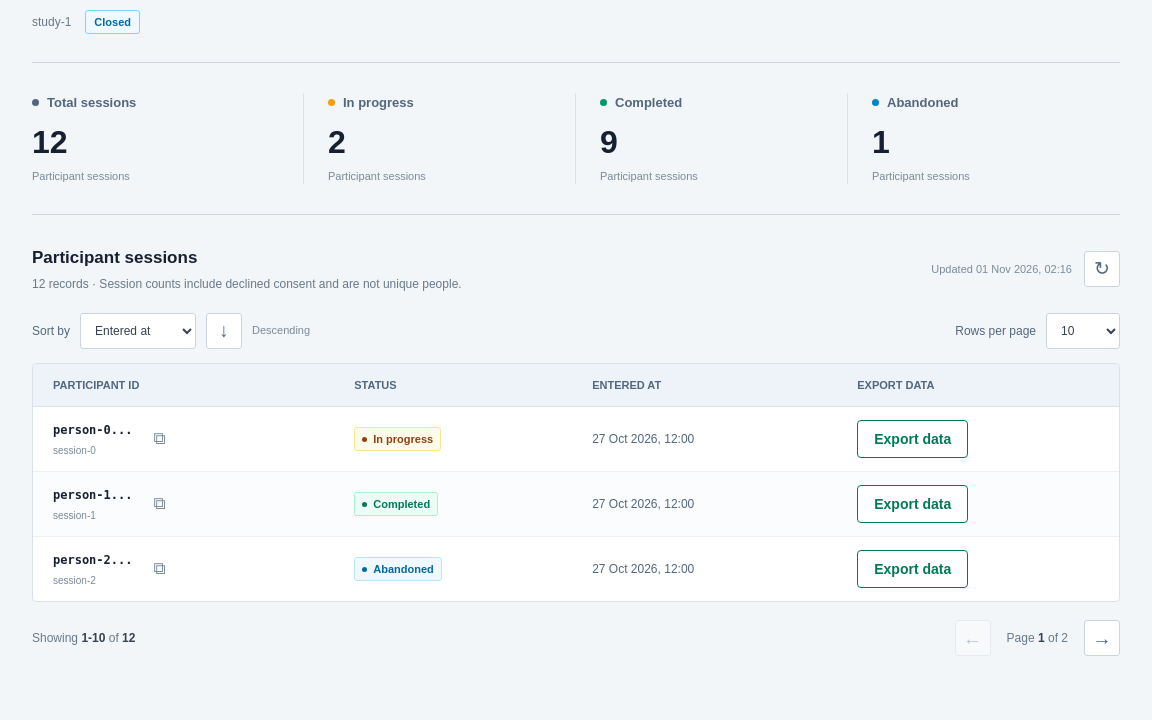
real study participation page › opens an export for each row with its own session identity, regardless of session completion status
The width and height of the screenshot is (1152, 720).
(page scrolled)
Check: the text "session-0" is shown, box [53,445,96,456]
Click the button "Export data" in the row of "person-0". click: click(913, 439)
box: [857,420,968,458]
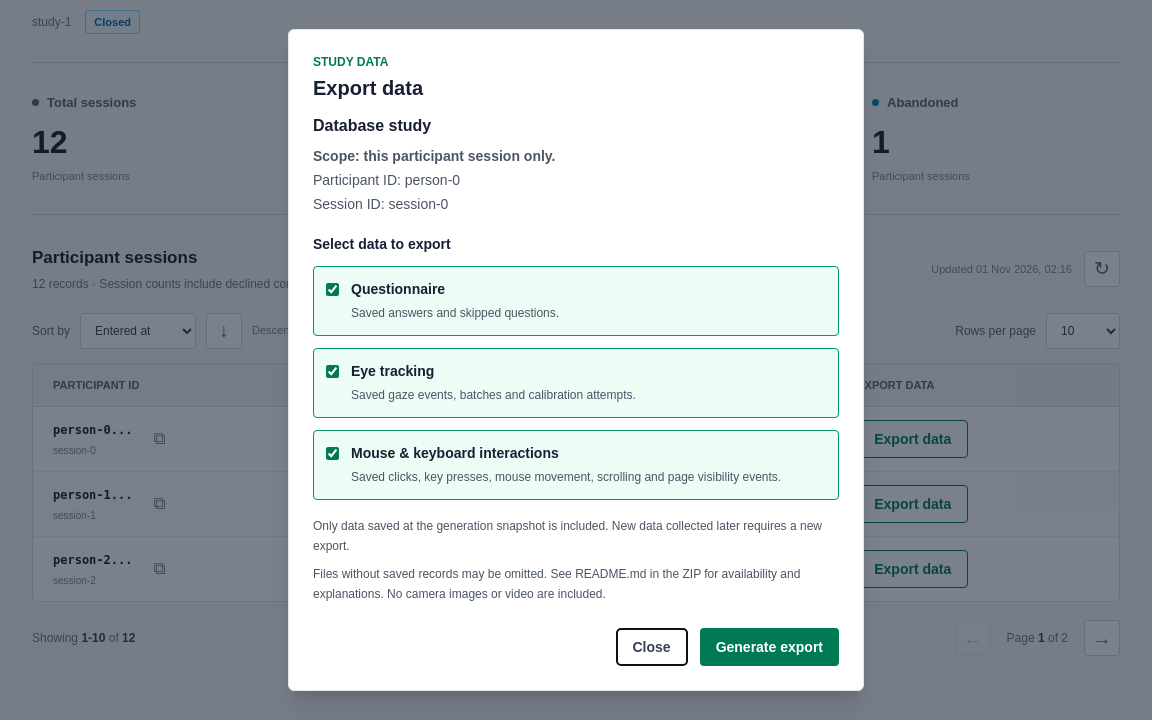
Click the button "Close". click: click(652, 647)
box: [616,628,688,666]
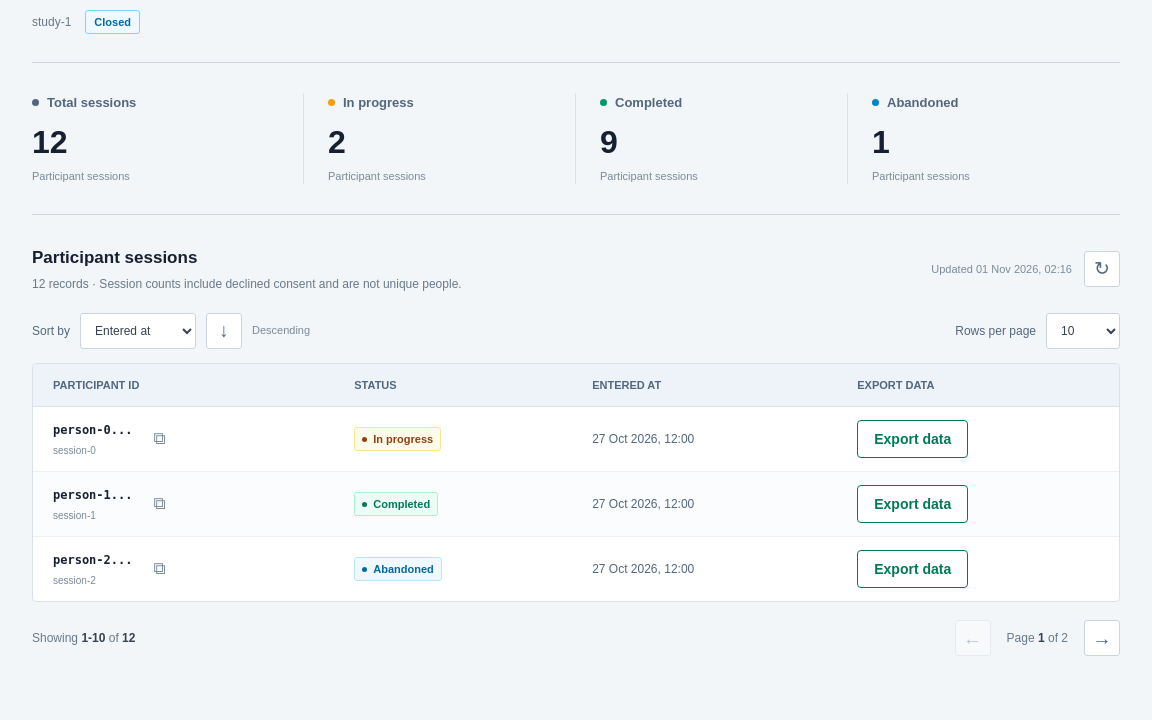
Check: the dialog is gone
Click the button "Export data" in the row of "person-1". click: click(913, 504)
box: [857,485,968,523]
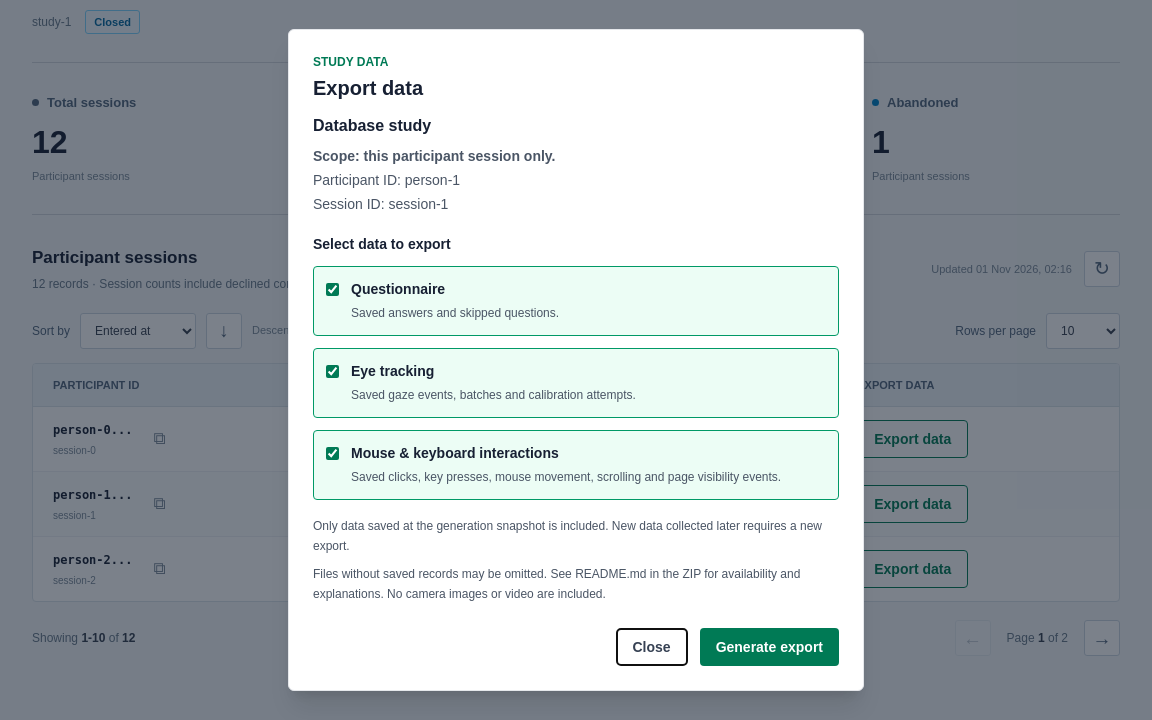
Check: the text "Session ID: session-1" is shown, box [313,196,448,212]
Click the button "Close". click: click(652, 647)
box: [616,628,688,666]
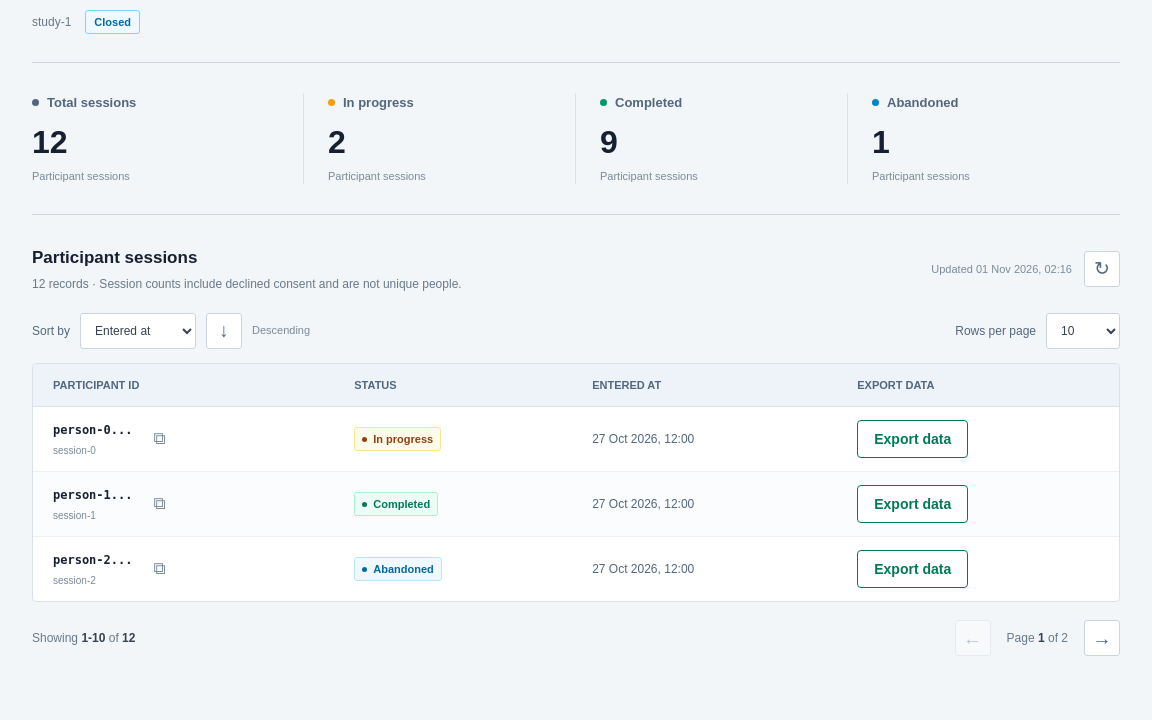
Check: the dialog is gone
Click the button "Export data" in the row of "person-2". click: click(913, 569)
box: [857,550,968,588]
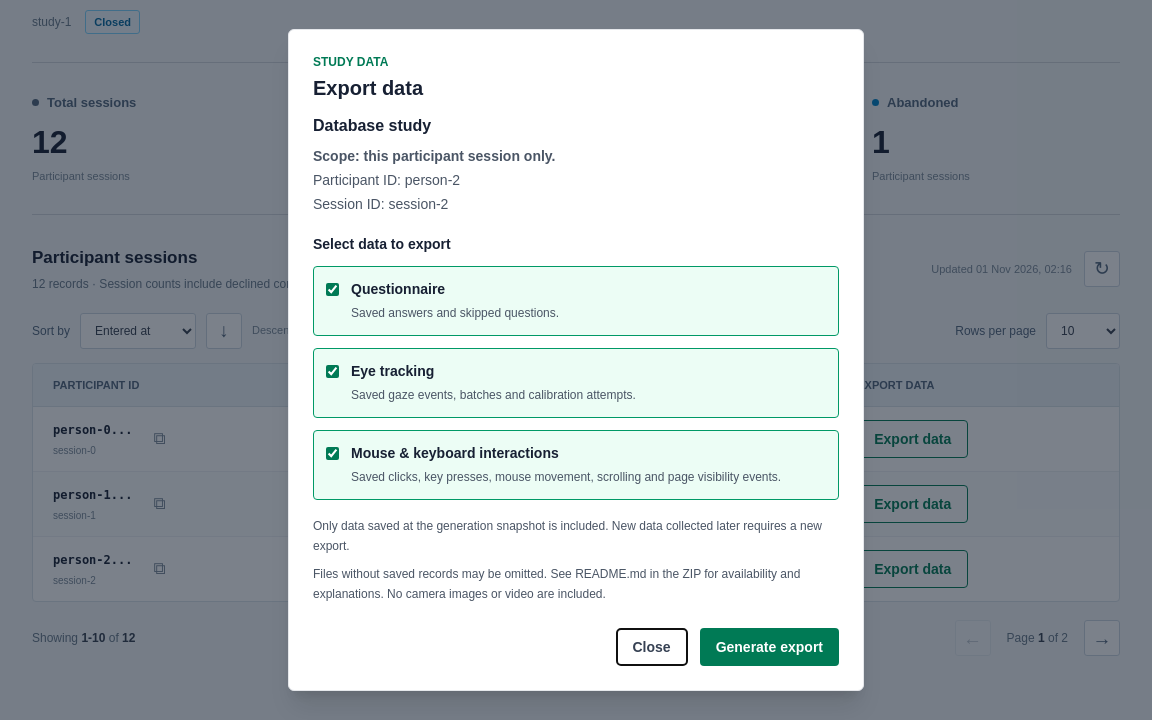
Click the button "Close". click: click(652, 647)
box: [616,628,688,666]
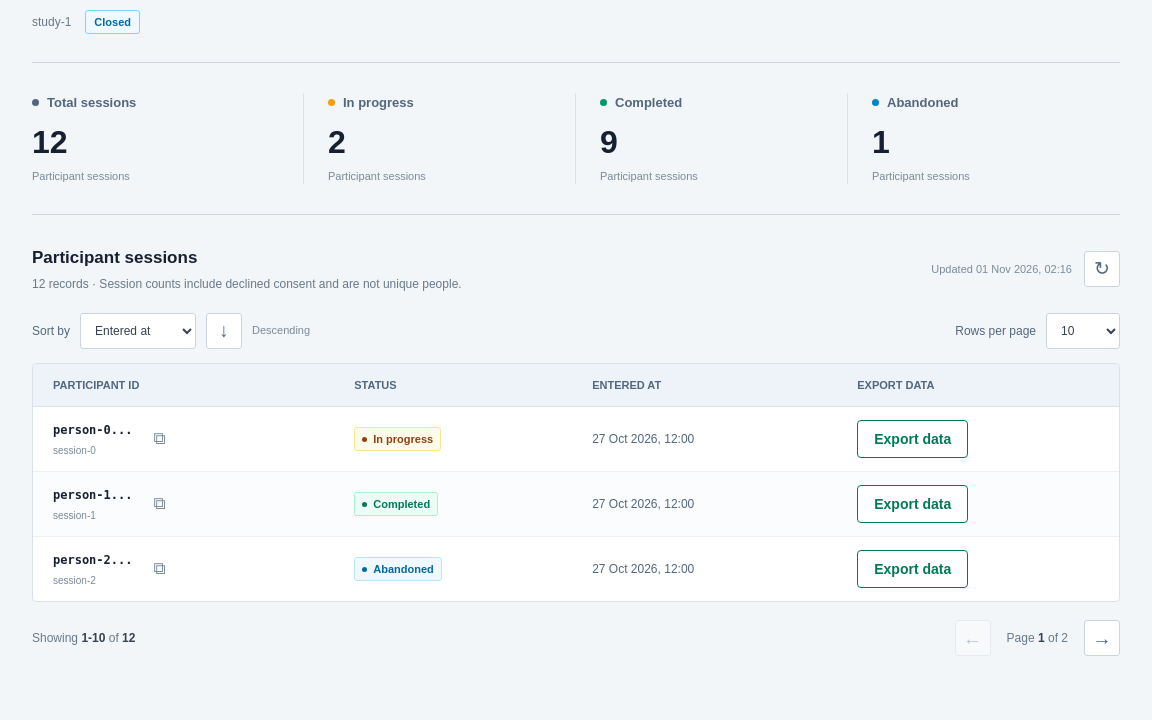
Check: the dialog is gone
